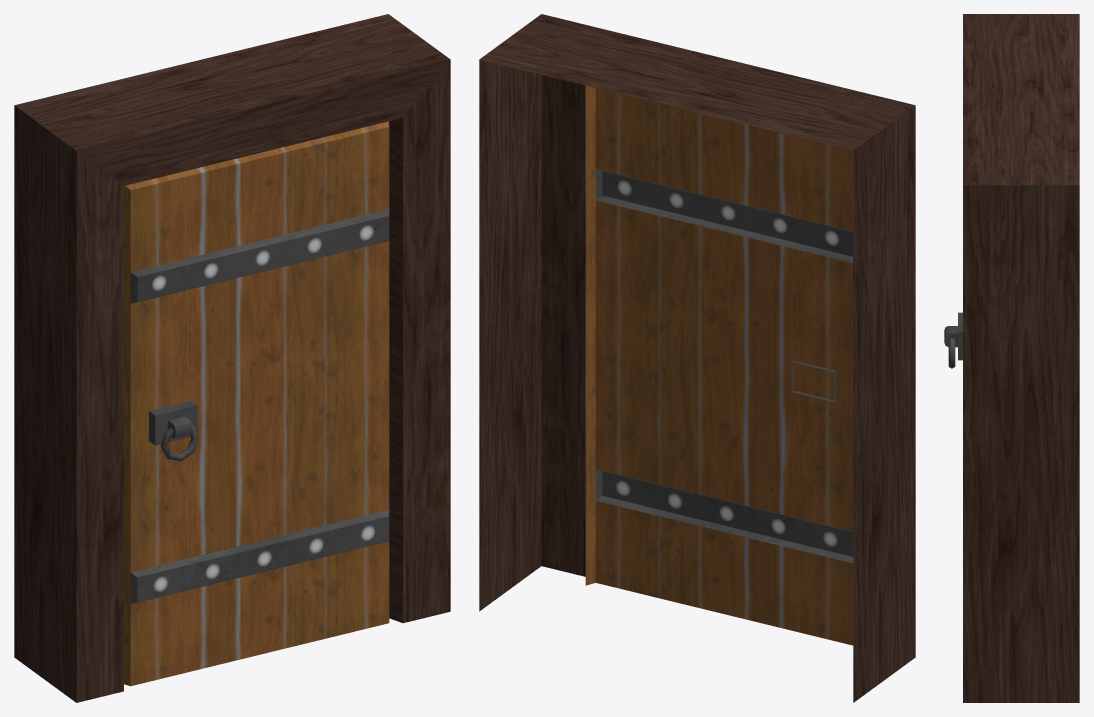
The model's file is Module_Door_Square2.fbx.
The picture shows the model from 3 angles, left to right: view 1: azimuth 30°, elevation 25°; view 2: azimuth 150°, elevation 25°; view 3: azimuth 270°, elevation 25°; orthographic projection. The views are drawn at different scales.
Parts seen in each view (by area): view 1: Module_Door_Square2; view 2: Module_Door_Square2; view 3: Module_Door_Square2.
Part boxes in pixels (x1,y1,x2,y2): Module_Door_Square2: [14, 14, 450, 702]; Module_Door_Square2: [479, 14, 915, 702]; Module_Door_Square2: [944, 14, 1079, 702].
Size of the model in its own units: 140 by 197 by 46.78.
